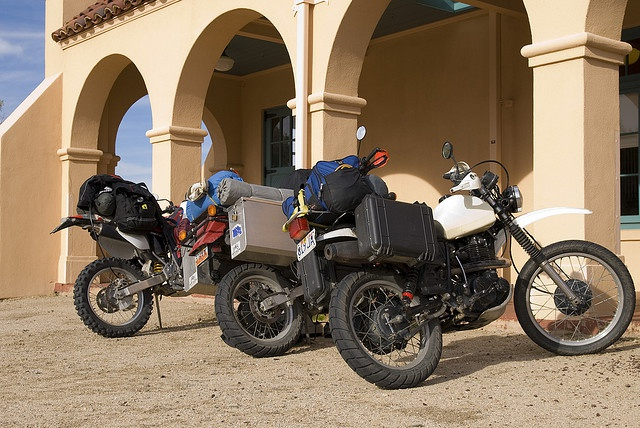non-vehicle: (282, 142, 636, 389), (181, 146, 398, 356), (50, 167, 242, 337)
